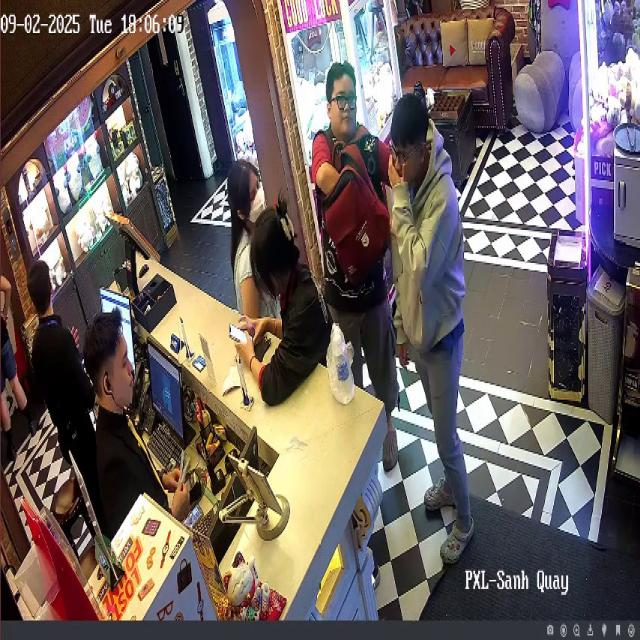khach: (390, 80, 477, 566), (308, 68, 399, 478), (225, 197, 332, 409), (216, 119, 277, 331), (0, 261, 37, 454)
nhan vien: (73, 307, 204, 532), (23, 253, 92, 529)
